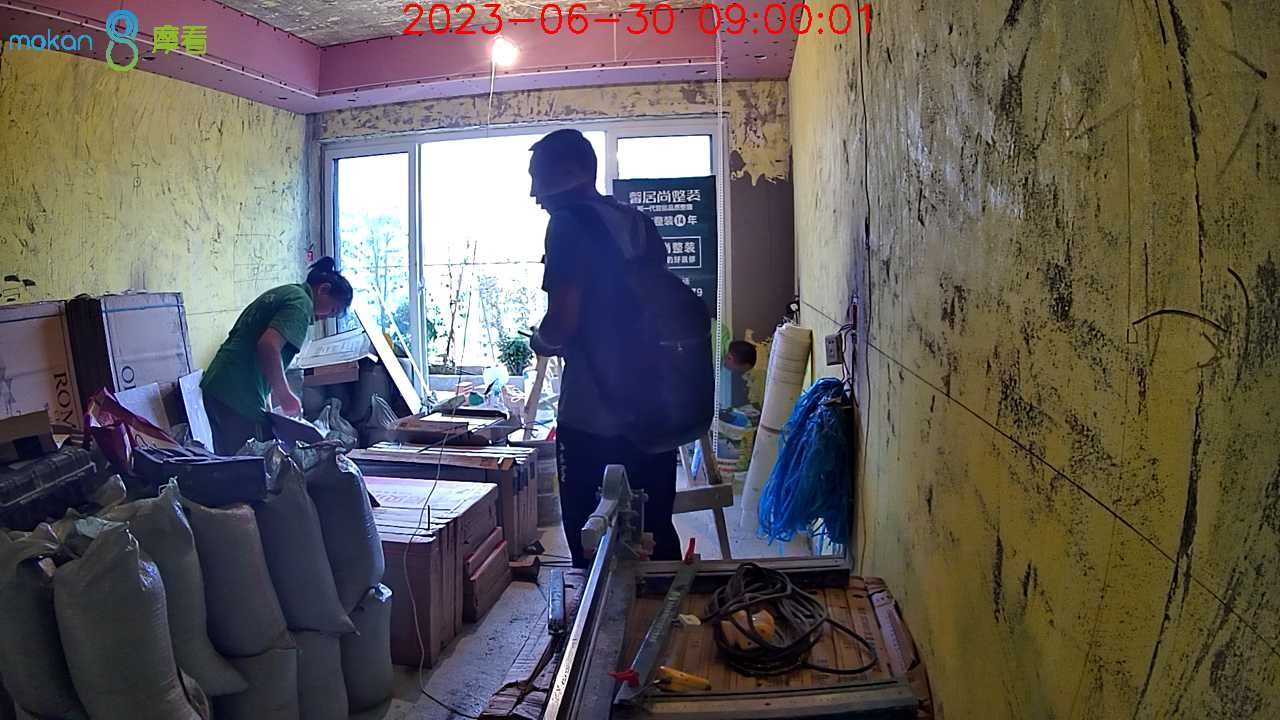people: (519, 128, 715, 544), (200, 256, 352, 453)
window: (333, 151, 717, 378)
